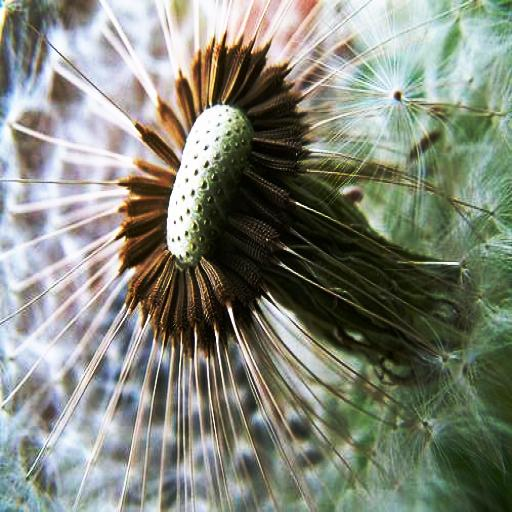dandelion: (2, 0, 511, 512)
